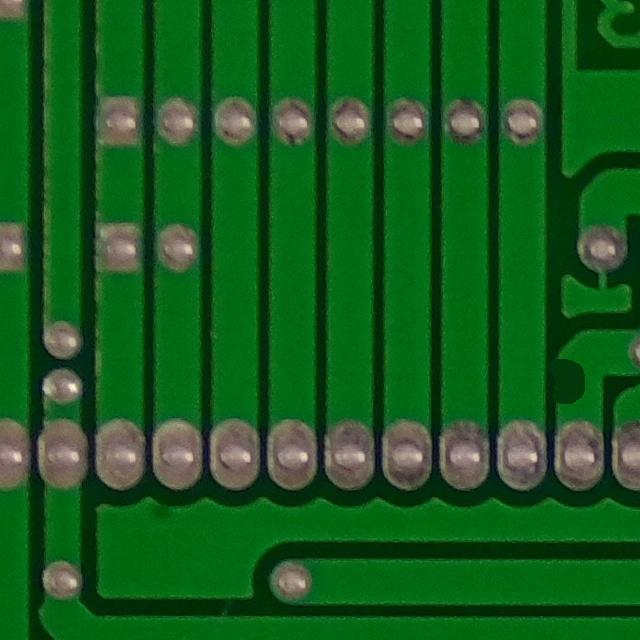mouse_bite: (546, 350, 601, 417)
